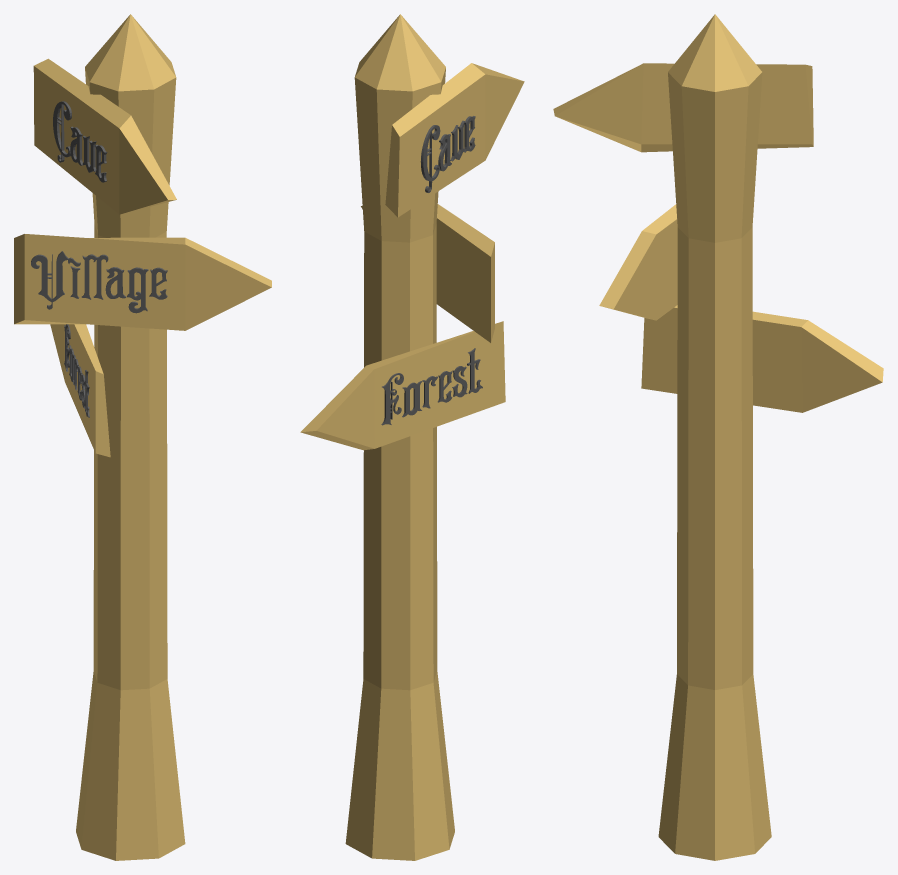
File: SignPost.fbx
The picture shows the model from 3 angles, left to right: view 1: azimuth 30°, elevation 25°; view 2: azimuth 150°, elevation 25°; view 3: azimuth 270°, elevation 25°; orthographic projection.
Visible parts, largest first — view 1: Cylinder; view 2: Cylinder; view 3: Cylinder.
Part boxes in pixels (left/top/right/bottom): Cylinder: left=14, top=14, right=271, bottom=860; Cylinder: left=300, top=14, right=524, bottom=860; Cylinder: left=553, top=14, right=883, bottom=860.
Bounding box in the file's own units: 62.44 × 253 × 92.1.
